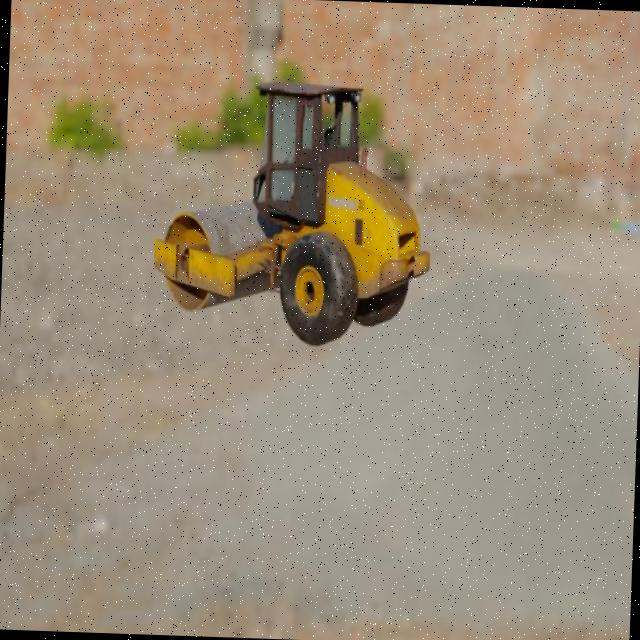Roller: (149, 76, 436, 350)
